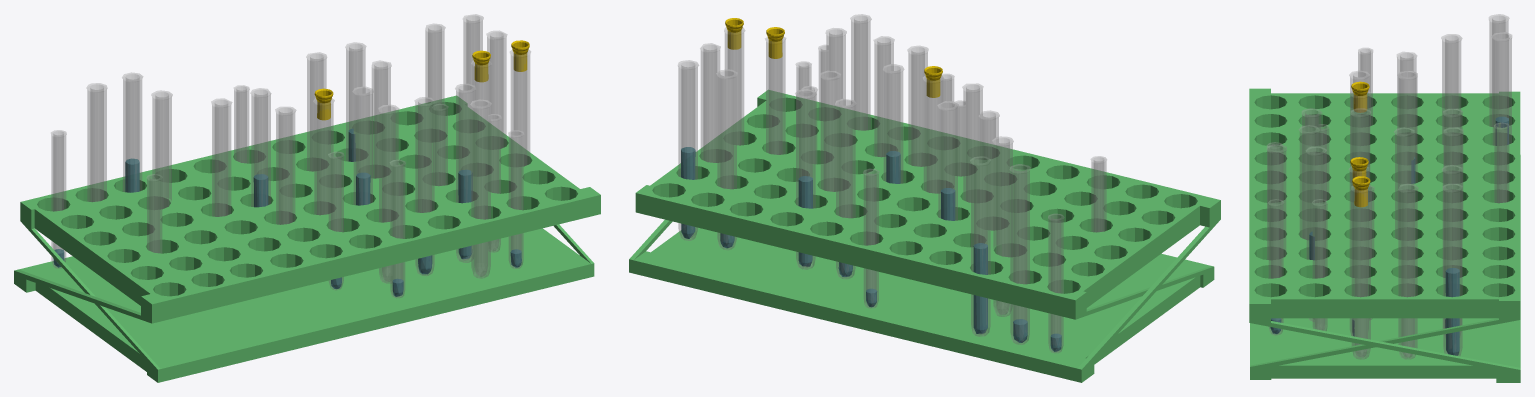
Rendered from Medical02.fbx.
The picture shows the model from 3 angles, left to right: view 1: azimuth 30°, elevation 25°; view 2: azimuth 150°, elevation 25°; view 3: azimuth 270°, elevation 25°; orthographic projection. The views are drawn at different scales.
Parts seen in each view (by area): view 1: polySurface6; view 2: polySurface6; view 3: polySurface6.
Part boxes in pixels (x1,y1,x2,y2): polySurface6: [14, 14, 600, 382]; polySurface6: [629, 14, 1220, 382]; polySurface6: [1249, 14, 1520, 382].
Bounding box in the file's own units: 100 × 41.71 × 53.44.
3 materials, 1 textured.
